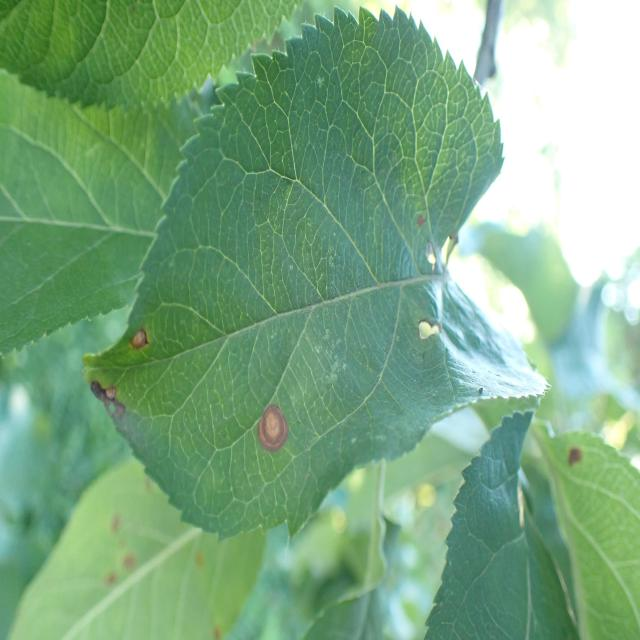Black Rot: (245, 372, 291, 474), (414, 198, 464, 282), (76, 371, 127, 433), (559, 426, 591, 490), (408, 309, 454, 352), (122, 320, 160, 367)
